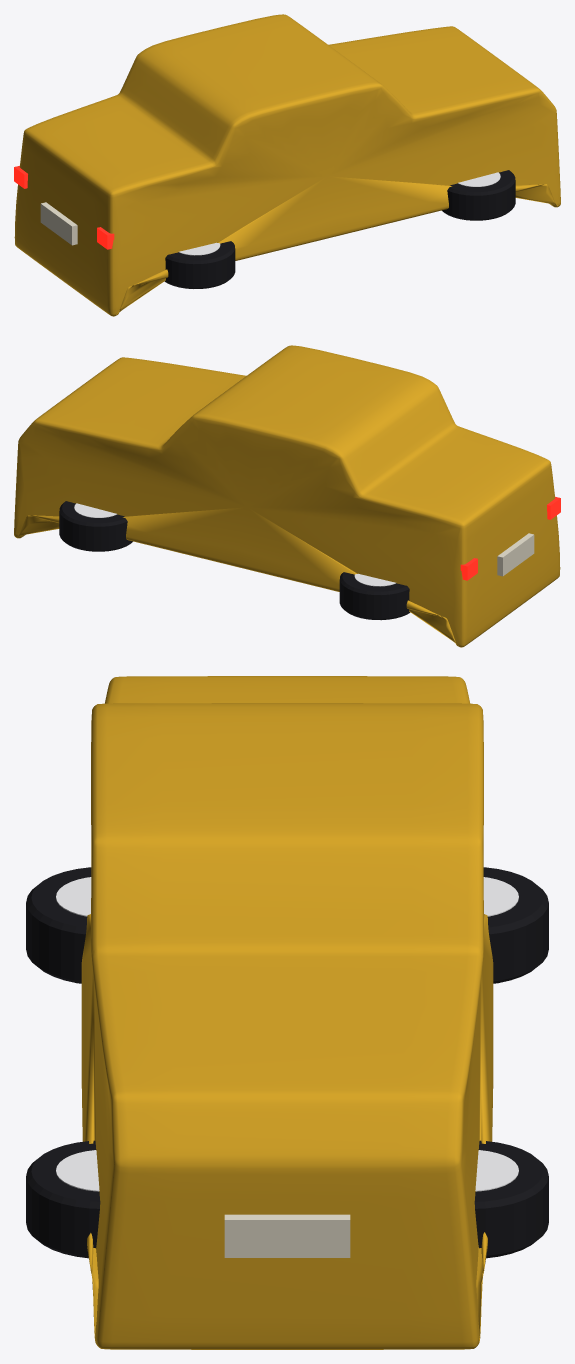
File: t1_allergy.glb
The picture shows the model from 3 angles, top to bottom: view 1: azimuth 30°, elevation 25°; view 2: azimuth 150°, elevation 25°; view 3: azimuth 270°, elevation 25°; orthographic projection. The views are drawn at different scales.
Visible parts, largest first — view 1: paint_00, tyre_06, tyre_04, wall_01; view 2: paint_00, tyre_07, tyre_05, wall_01; view 3: paint_00, tyre_06, tyre_07, wall_00, tyre_04, tyre_05, chrome_08, chrome_09, chrome_07, chrome_06.
Part boxes in pixels (x1,y1,x2,y2): paint_00: (14,14,560,316); tyre_06: (442,170,515,220); tyre_04: (164,241,235,288); wall_01: (40,202,77,245); paint_00: (14,345,560,647); tyre_07: (59,501,132,551); tyre_05: (339,572,410,620); wall_01: (497,533,534,576); paint_00: (81,676,493,1349); tyre_06: (26,1140,100,1258); tyre_07: (474,1140,548,1258); wall_00: (224,1214,350,1257); tyre_04: (26,867,91,983); tyre_05: (483,867,548,983); chrome_08: (56,1150,99,1191); chrome_09: (475,1150,518,1191); chrome_07: (483,877,518,916); chrome_06: (56,877,91,916).
Bounding box in the file's own units: 10.24 × 3.61 × 4.99.
